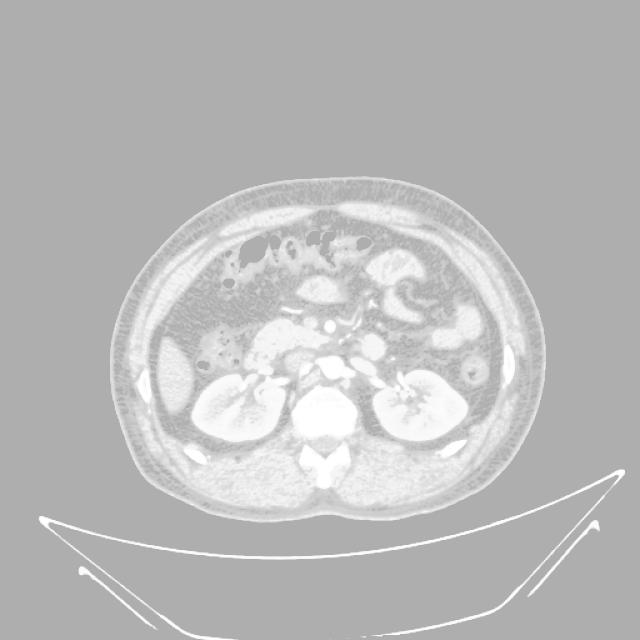NORMAL: (95, 156, 542, 513)
